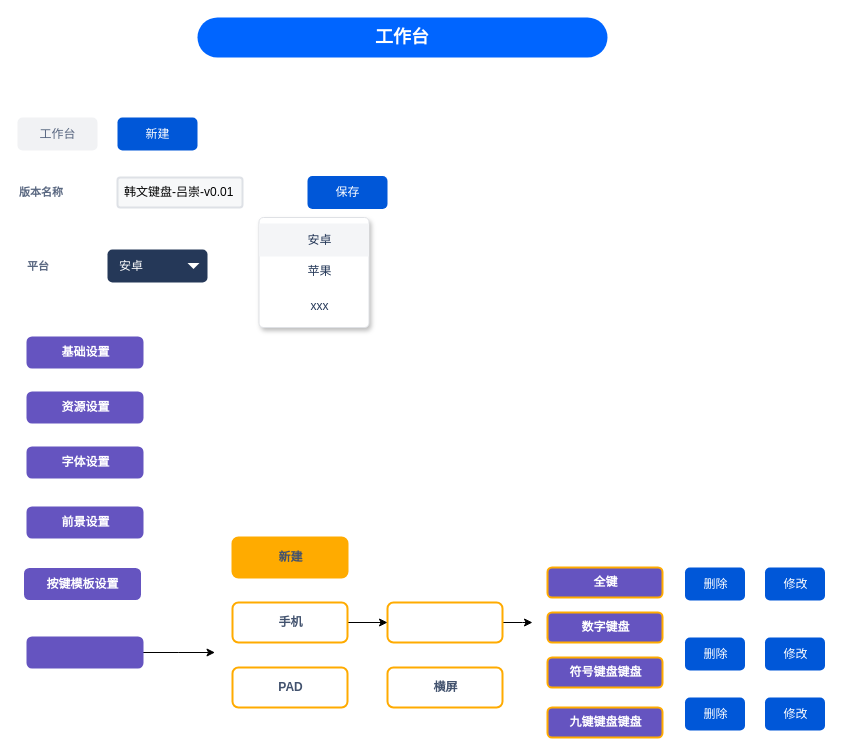
Some shapes in this 842 by 755 pixel diagram are drawn without their labels. Each missing label, with the centre of its shape:
"竖屏" goes at point 444,622.
"键盘设置" goes at point 84,652.
